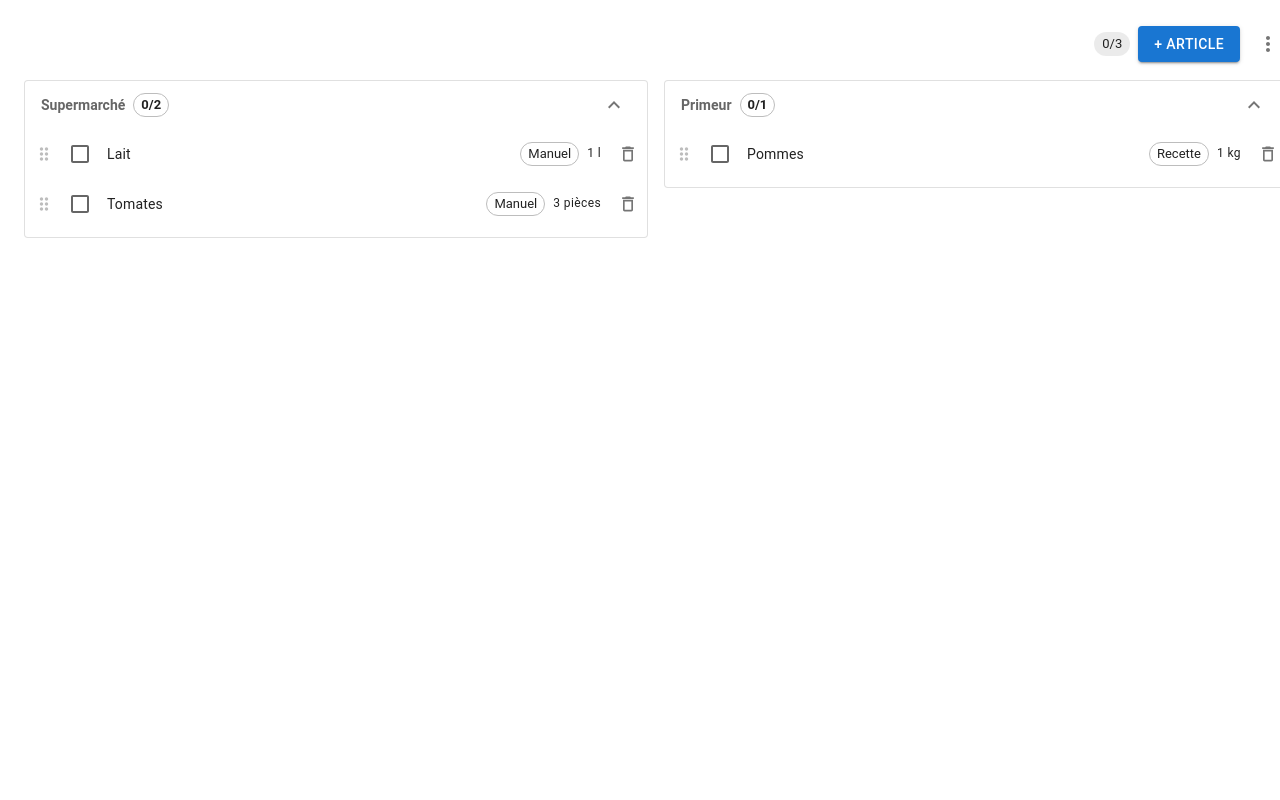
Test: GroceryListView › deleting a line (MAG-283) › confirming deletes the line at /api/grocery_items/{id} and removes it from the list
Expected: the text "Lait" is shown, [107,146,131,162]
Click the button named "Supprimer Lait" at (628, 154), box [613,139,643,169]
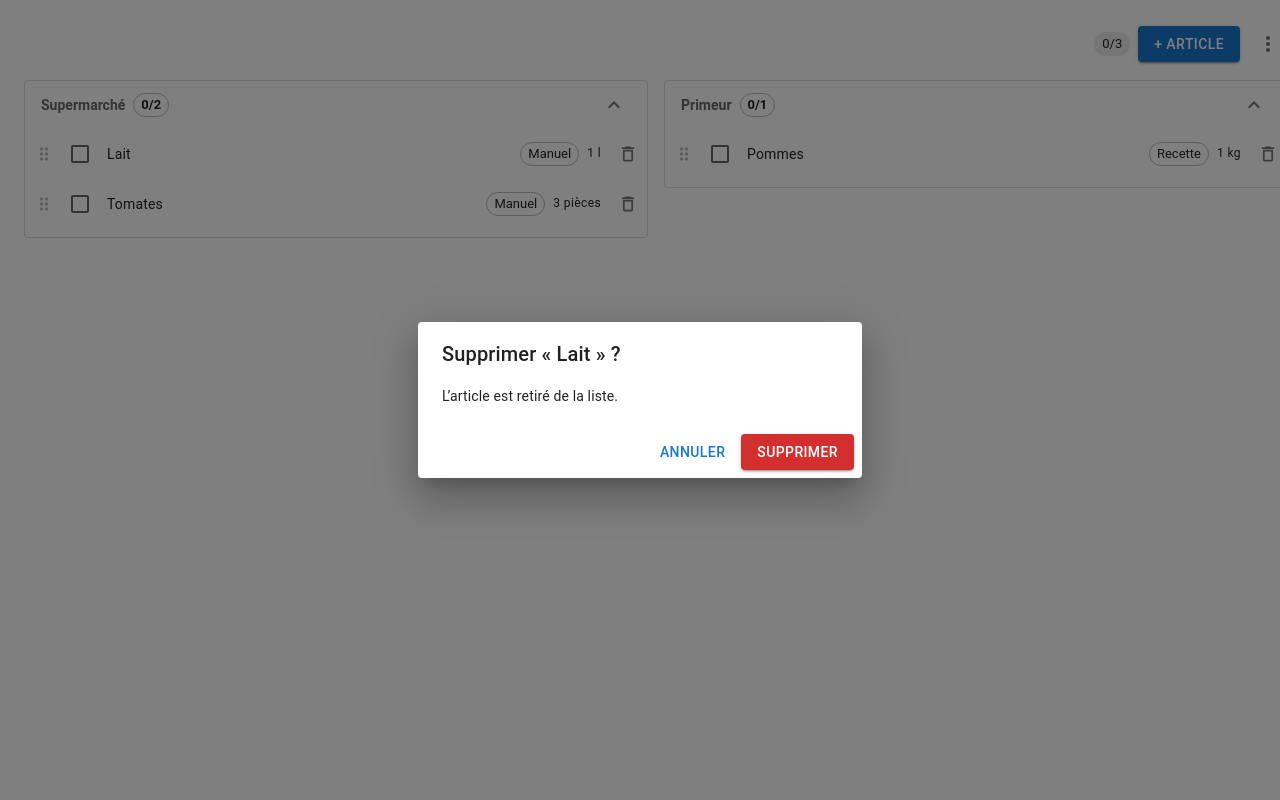
Click the button "Supprimer" at (798, 452), box [741,434,854,470]
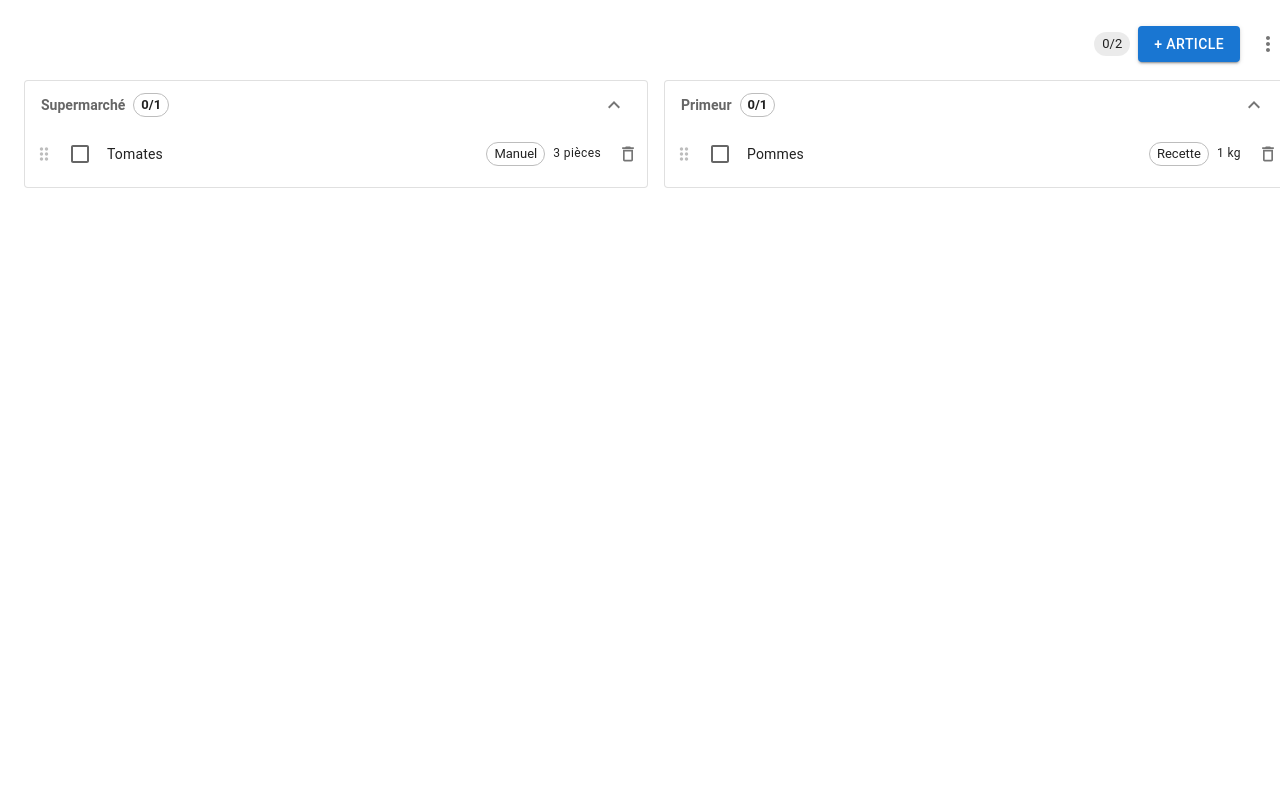
Expected: the text "Tomates" is shown, [107,146,163,162]
Now the button "Lait" is gone
